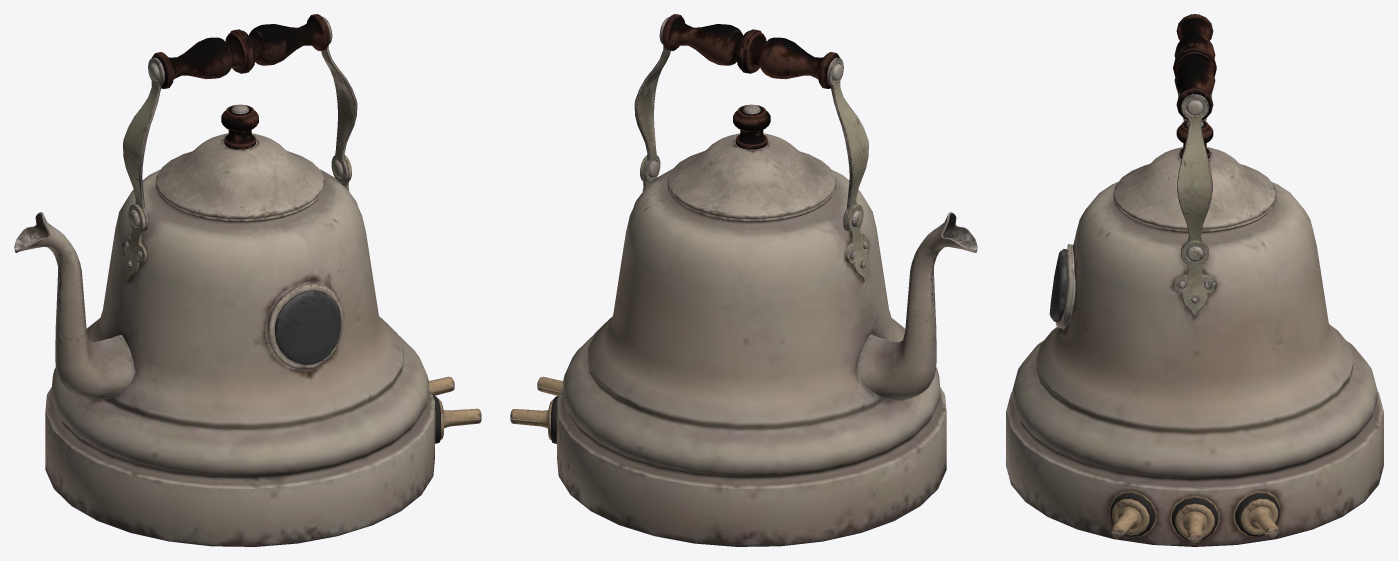
File: kettle.glb
3 views of the same model, side by side, from view 1: azimuth 30°, elevation 25°; view 2: azimuth 150°, elevation 25°; view 3: azimuth 270°, elevation 25° (orthographic). The views are drawn at different scales.
Visible parts, largest first — view 1: vintage_electric_kettle; view 2: vintage_electric_kettle; view 3: vintage_electric_kettle.
Part boxes in pixels (<box>): vintage_electric_kettle: <box>14,14,481,546</box>; vintage_electric_kettle: <box>510,14,977,546</box>; vintage_electric_kettle: <box>1006,14,1383,546</box>.
Size of the model in its own units: 0.3209 by 0.3047 by 0.2486.
Materials: 2 (2 with a texture image).
